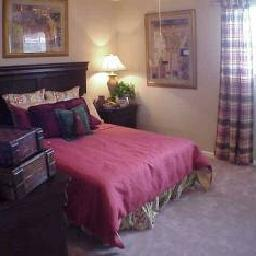Cama: (33, 93, 197, 230)
Ventana: (221, 3, 255, 94)
